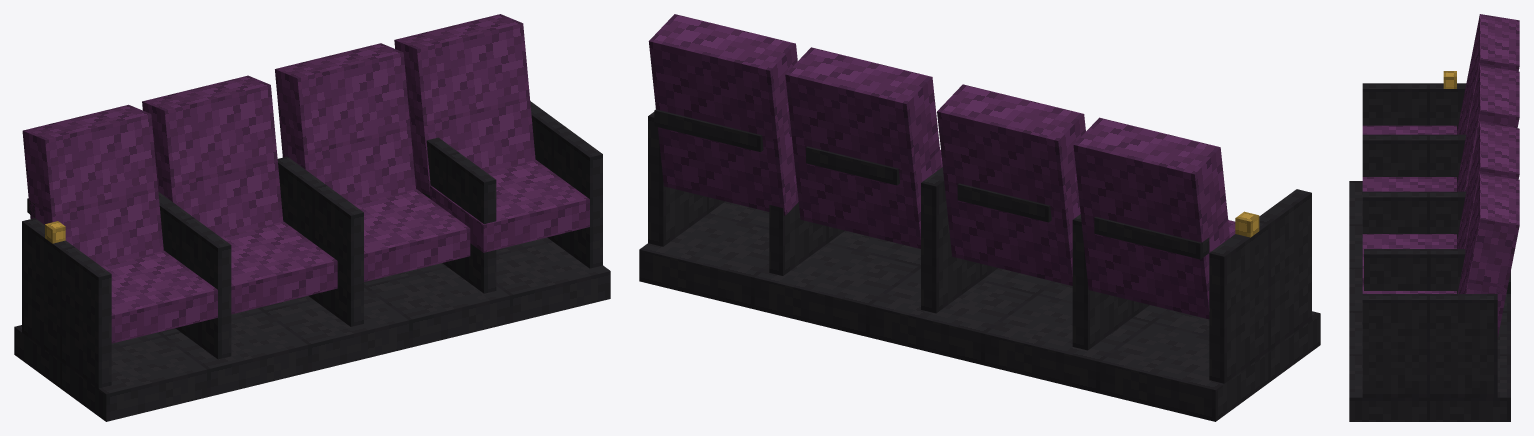
Rendered from cinemaSeats_1.glb.
3 renders of one model, left to right at view 1: azimuth 30°, elevation 25°; view 2: azimuth 150°, elevation 25°; view 3: azimuth 270°, elevation 25°, orthographic. The views are drawn at different scales.
Parts seen in each view (by area): view 1: cinemaSeats_1; view 2: cinemaSeats_1; view 3: cinemaSeats_1.
Boxes of the visible parts, box(x1,y1,x2,y2) form: cinemaSeats_1: box(14, 14, 610, 421); cinemaSeats_1: box(639, 14, 1320, 421); cinemaSeats_1: box(1349, 14, 1519, 421).
Bounding box in the file's own units: 2.38 × 1.01 × 0.7904.
1 material, 1 textured.
